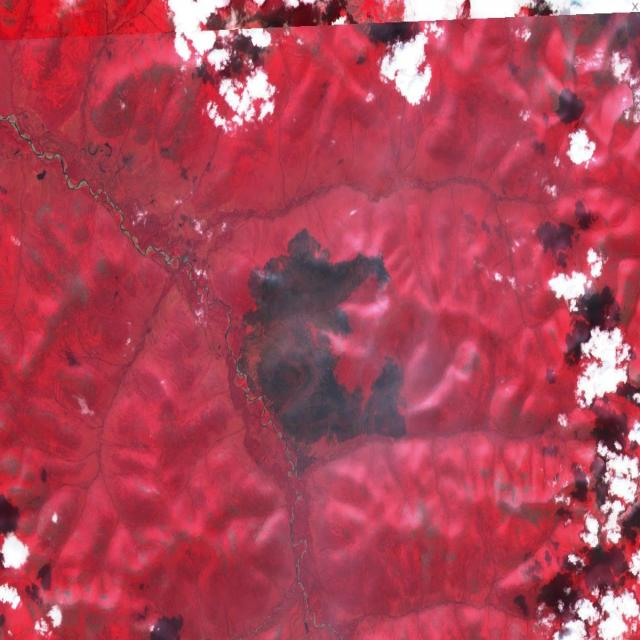fire: (366, 246, 401, 301), (243, 258, 270, 304), (379, 348, 394, 369)
